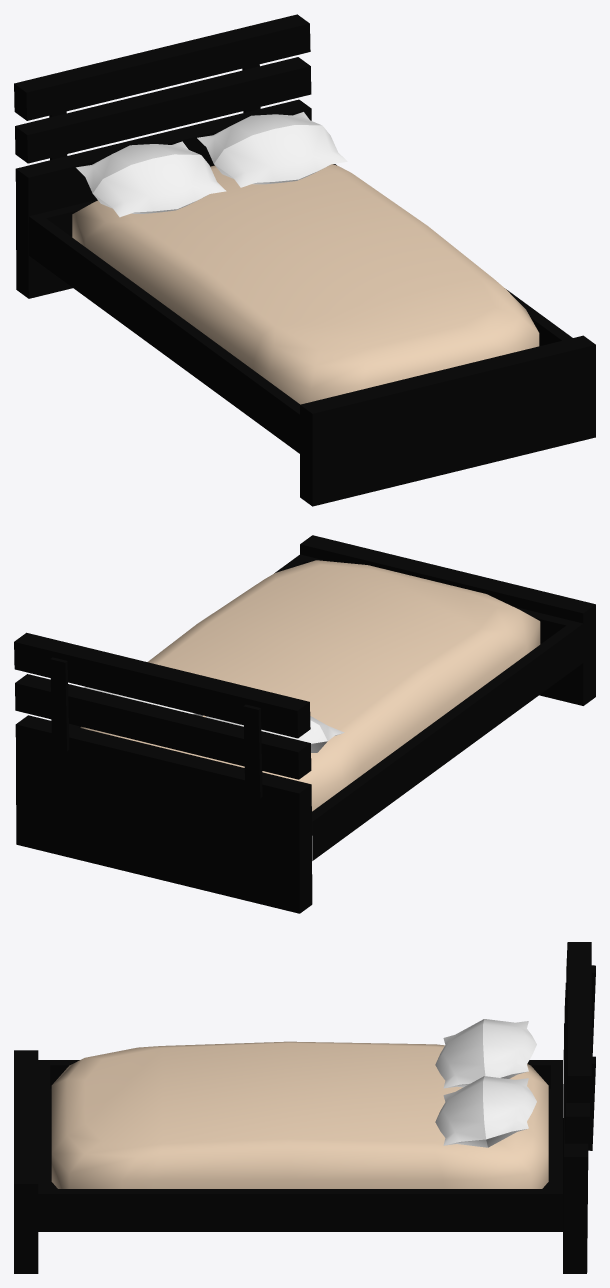
Rendered from Zen_Bed.FBX.
3 renders of one model, top to bottom at view 1: azimuth 30°, elevation 25°; view 2: azimuth 150°, elevation 25°; view 3: azimuth 270°, elevation 25°, orthographic. The views are drawn at different scales.
Visible parts, largest first — view 1: Zen_Bed; view 2: Zen_Bed; view 3: Zen_Bed.
Part boxes in pixels (x1,y1,x2,y2): Zen_Bed: [14, 14, 595, 506]; Zen_Bed: [14, 535, 595, 913]; Zen_Bed: [14, 942, 595, 1273].
Size of the model in its own units: 77.03 by 53.11 by 142.
